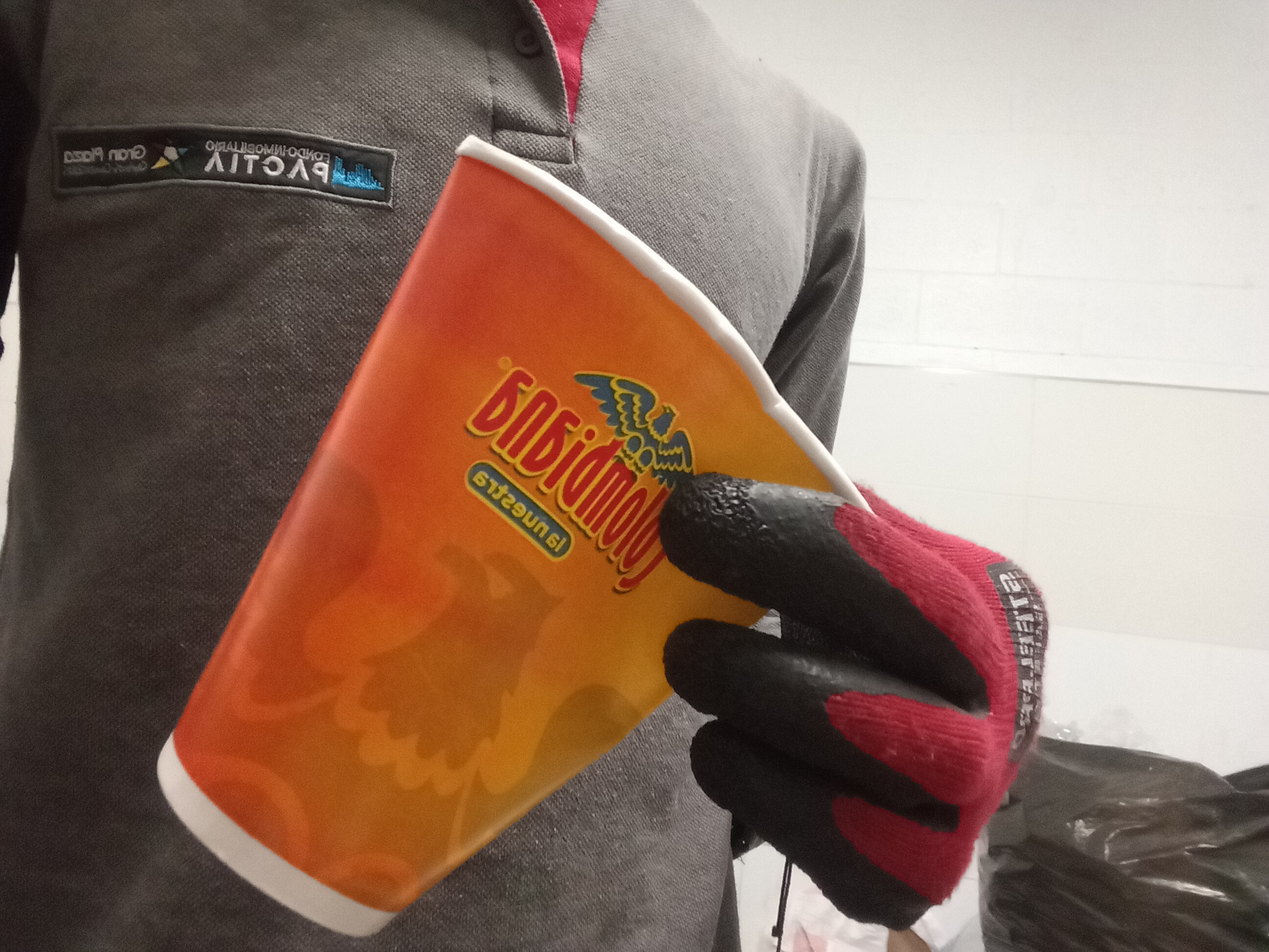Carton: (158, 137, 873, 937)
